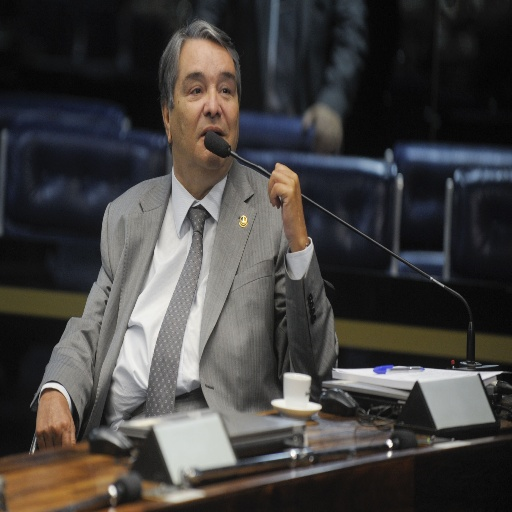hand: (269, 159, 310, 247), (36, 389, 77, 454)
